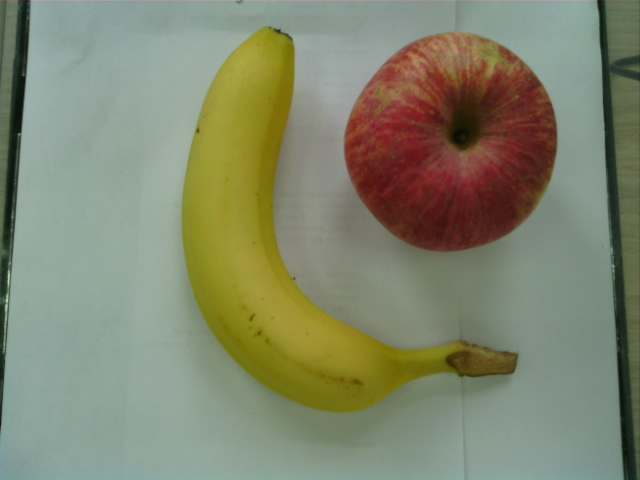normal_apple: (347, 31, 563, 251)
normal_banana: (180, 28, 424, 412)
